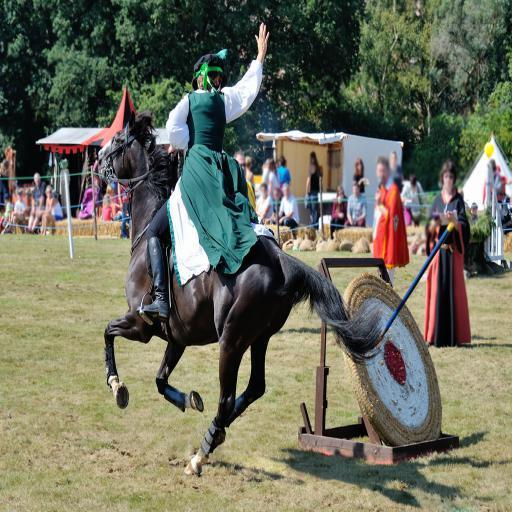horse: (96, 108, 388, 477)
